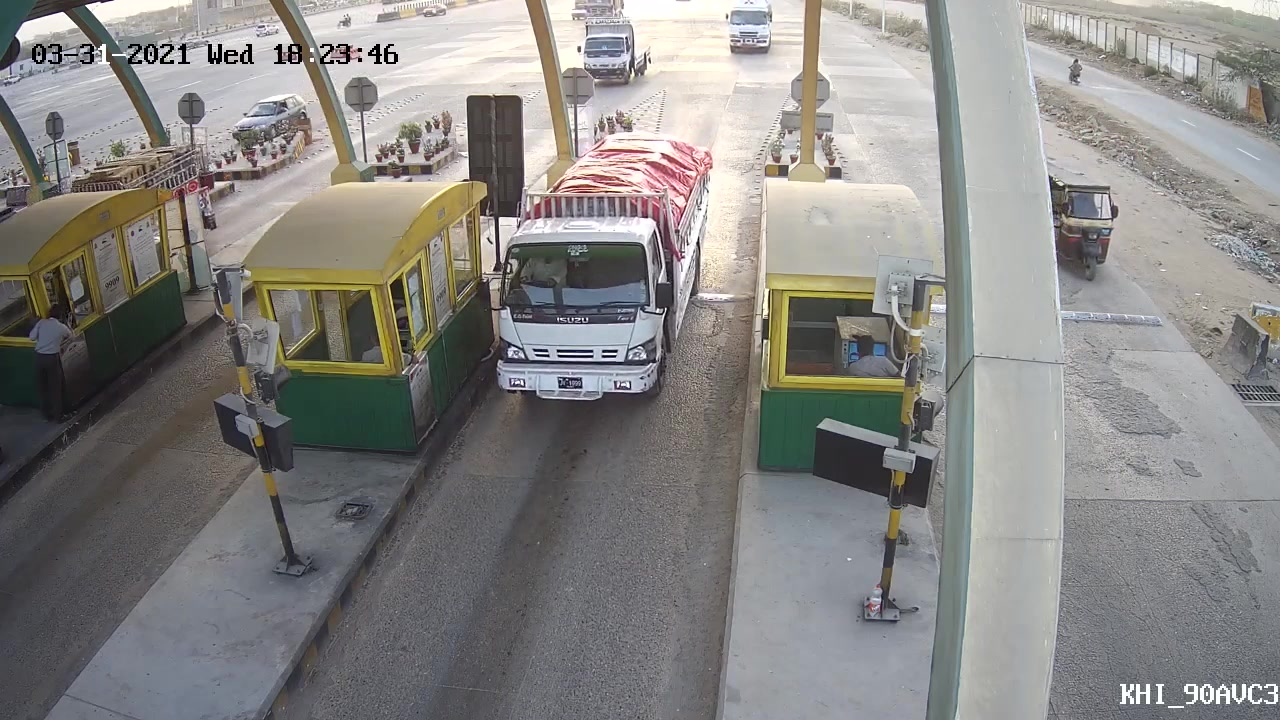F2: (475, 131, 720, 403)
